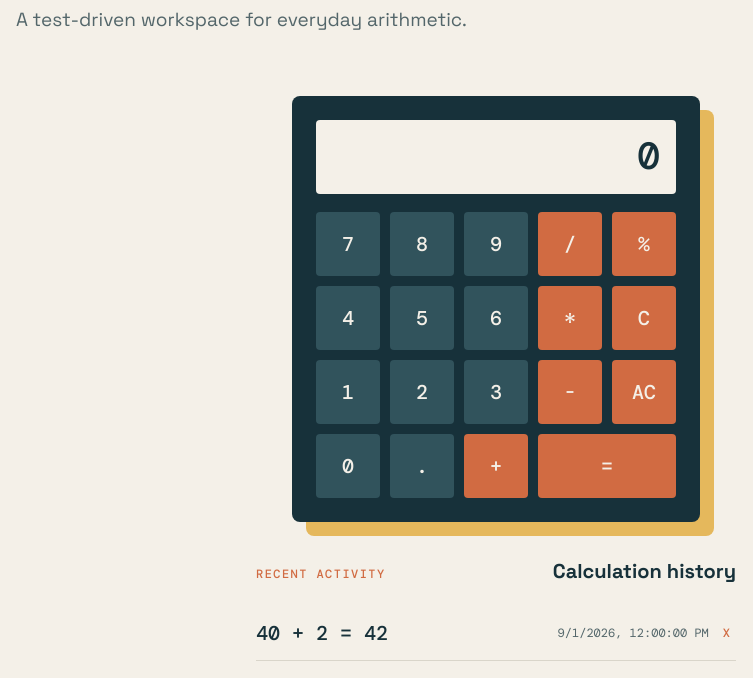
Test: Calculator shell › puts a selected stored result into the display
(page scrolled)
What coordinates should you click on to do the following:
click the text "40 + 2 = 42"
I would click on:
 (322, 633)
Its box is [256,620,388,646].
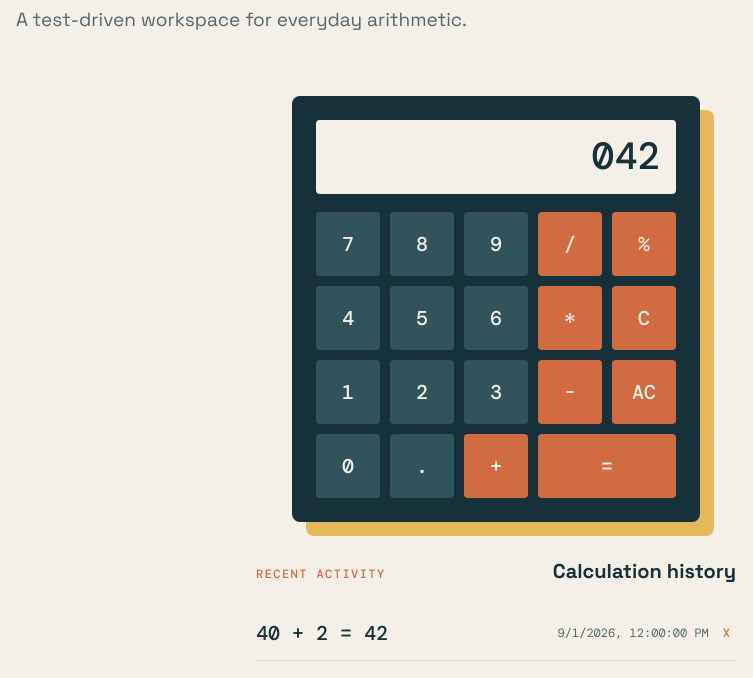
Expected: the text named "Current value" shows "42", [316,120,676,194]
